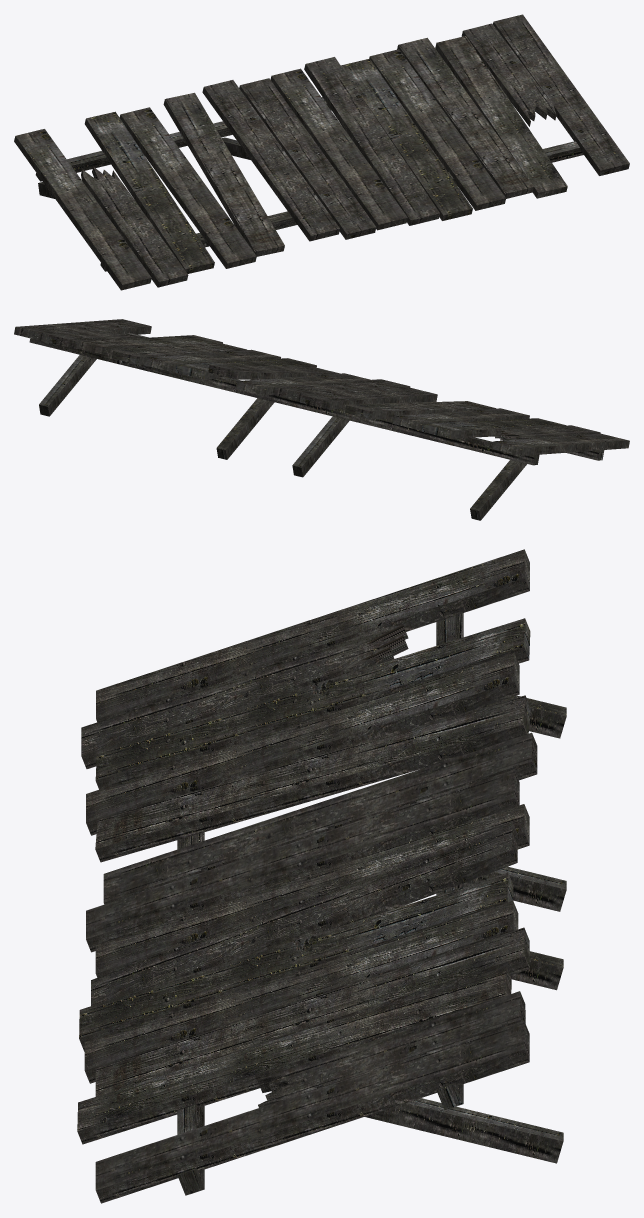
Rendered from Awning_2.fbx.
3 renders of one model, top to bottom at view 1: azimuth 30°, elevation 25°; view 2: azimuth 150°, elevation 25°; view 3: azimuth 270°, elevation 25°, orthographic. The views are drawn at different scales.
Visible parts, largest first — view 1: Awning_2; view 2: Awning_2; view 3: Awning_2.
Boxes of the visible parts, x1,y1,x2,y2 form: Awning_2: (14,14,629,290); Awning_2: (14,319,629,520); Awning_2: (77,549,566,1203).
Size of the model in its own units: 321 by 52.28 by 134.
